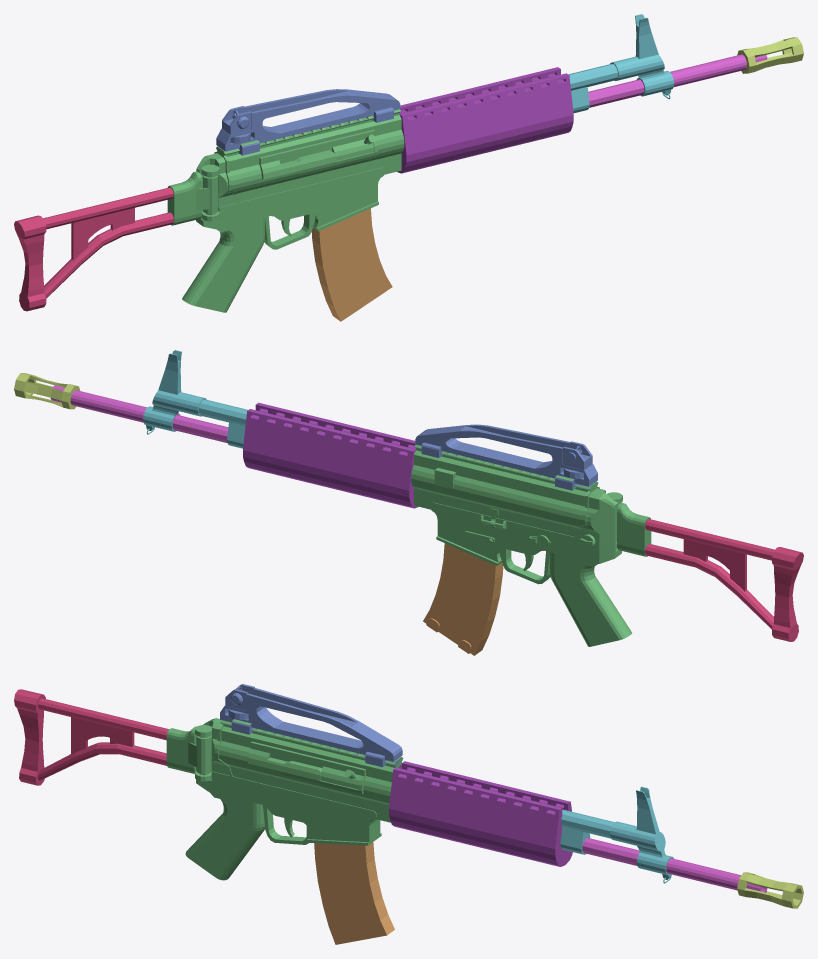
File: full_25_coarse.glb
3 renders of one model, top to bottom at view 1: azimuth 30°, elevation 25°; view 2: azimuth 150°, elevation 25°; view 3: azimuth 330°, elevation 25°, orthographic.
Parts seen in each view (by area): view 1: world; view 2: world; view 3: world.
Part boxes in pixels (bbox=[...]): world: bbox=[14, 14, 803, 321]; world: bbox=[14, 350, 803, 655]; world: bbox=[14, 684, 803, 944].
Bounding box in the file's own units: 0.9606 × 0.2731 × 0.0519.
